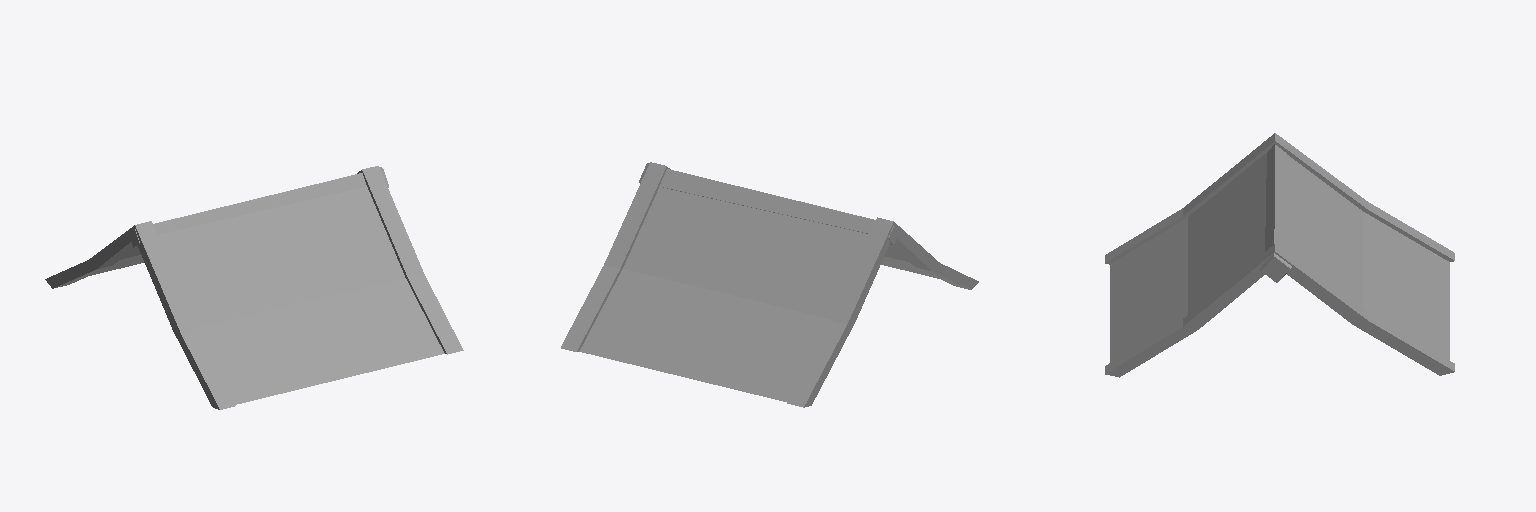
File: well_roof.obj
The picture shows the model from 3 angles: view 1: azimuth 30°, elevation 25°; view 2: azimuth 150°, elevation 25°; view 3: azimuth 270°, elevation 25°; orthographic projection.
Bounding box in the file's own units: 11.08 × 5.37 × 13.56.